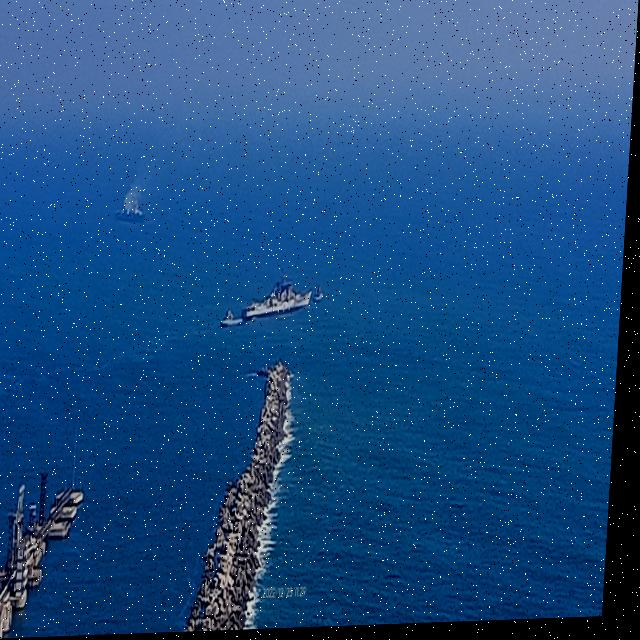ship: (221, 279, 331, 336), (113, 201, 153, 234)
